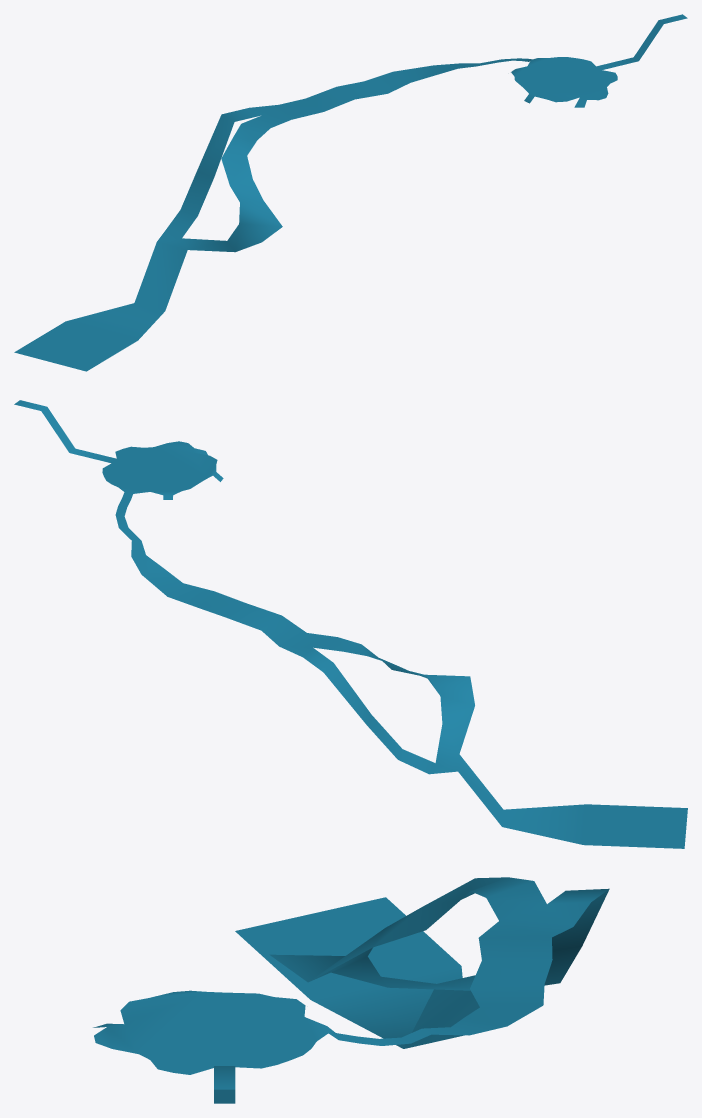
Rendered from test_mountain_river.obj.
The picture shows the model from 3 angles, top to bottom: view 1: azimuth 30°, elevation 25°; view 2: azimuth 150°, elevation 25°; view 3: azimuth 270°, elevation 25°; orthographic projection. The views are drawn at different scales.
Parts seen in each view (by area): view 1: Grid_Grid.001; view 2: Grid_Grid.001; view 3: Grid_Grid.001.
Boxes of the visible parts, left/top/right/bottom form: Grid_Grid.001: left=14, top=14, right=687, bottom=371; Grid_Grid.001: left=14, top=400, right=687, bottom=848; Grid_Grid.001: left=93, top=877, right=609, bottom=1103.
Bounding box in the file's own units: 810 × 260 × 288.
